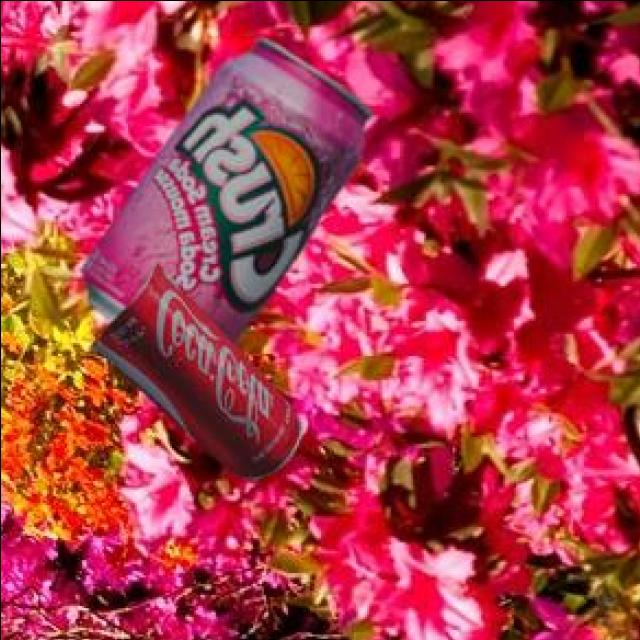logam: (78, 41, 367, 347), (91, 268, 297, 481)
